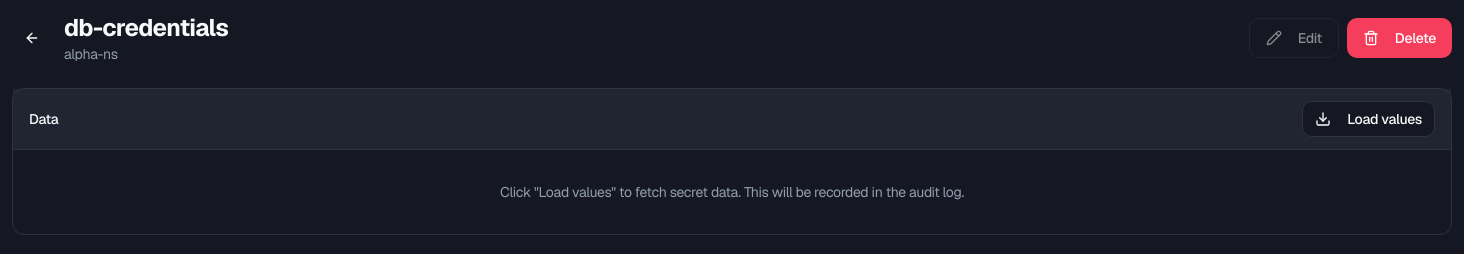
Scenario: SecretDetailView › shows 'Retry' in header button after load error
Click the button "Load values": point(1369, 119) 1302,101 -> 1435,137
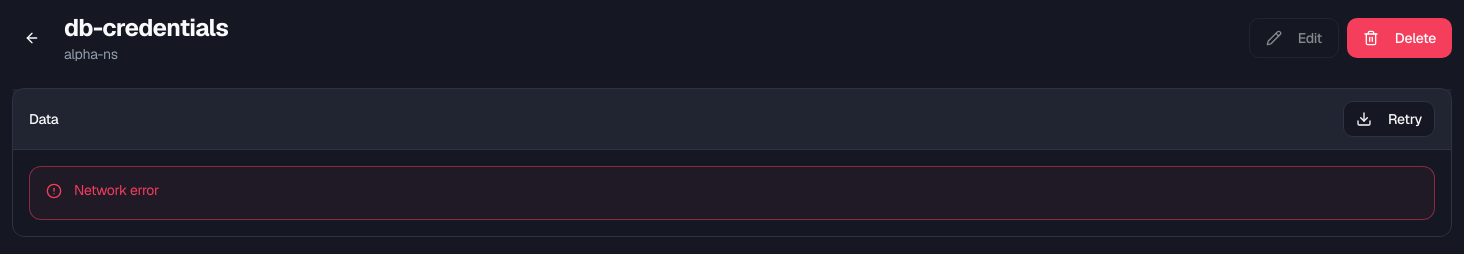
Expected: the text "Network error" is shown, 74,181 -> 159,199
Expected: the button "Retry" is shown, 1343,101 -> 1435,137
Expected: the button "Load values" is gone
